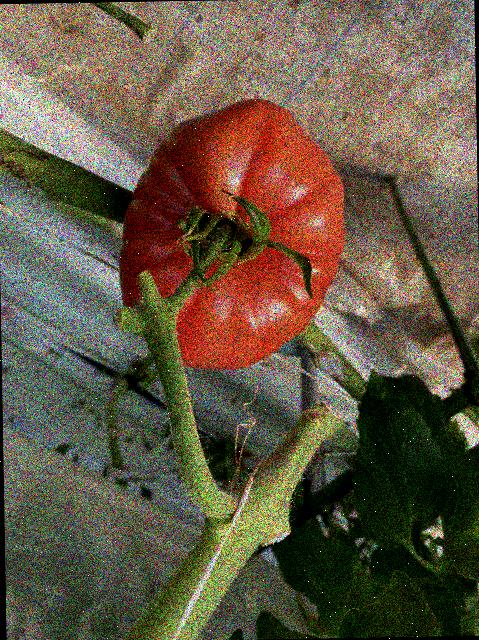b_fully_ripened: (114, 97, 346, 371)
